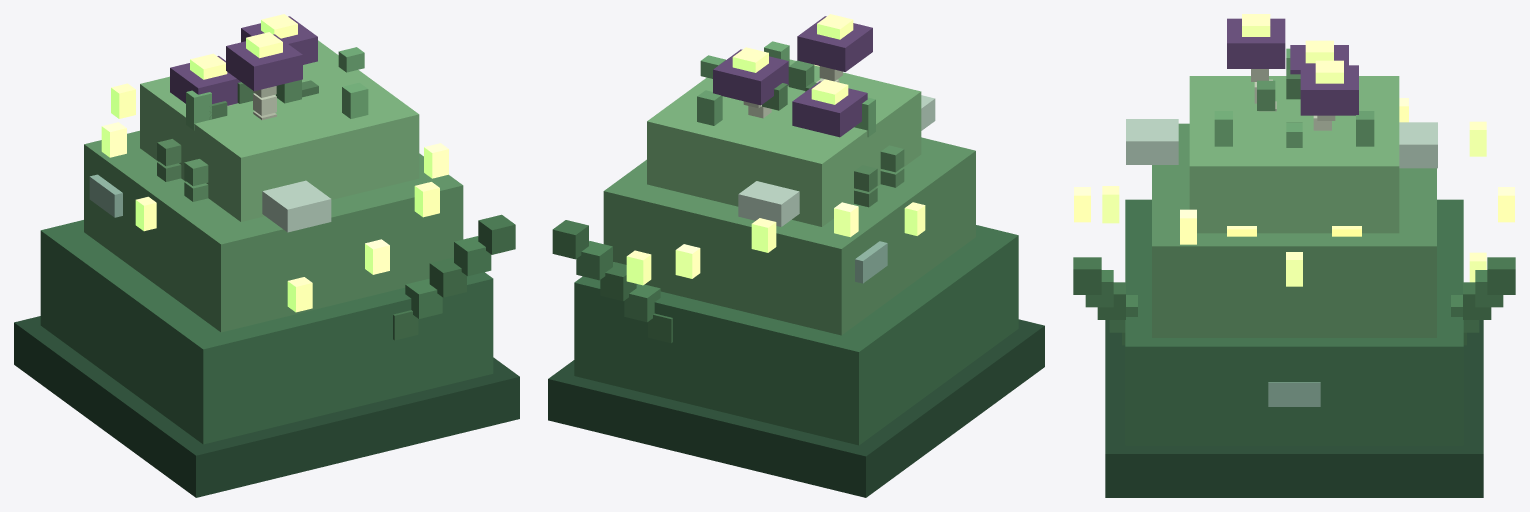
Rendered from mill-mini-mold-slime.glb.
3 views of the same model, side by side, from view 1: azimuth 30°, elevation 25°; view 2: azimuth 150°, elevation 25°; view 3: azimuth 270°, elevation 25° (orthographic). The views are drawn at different scales.
Visible parts, largest first — view 1: SlimeBody, SlimeFoot, SlimeDome, Spores, SporeCaps, Tendrils, MoldPatches, Scales, Trim, SporeStalks; view 2: SlimeBody, SlimeFoot, SlimeDome, SporeCaps, Spores, Tendrils, Scales, MoldPatches, Trim, SporeStalks; view 3: SlimeBody, SlimeDome, SlimeFoot, Spores, Tendrils, SporeCaps, MoldPatches, Scales, Trim, Eyes, SporeStalks.
Part boxes in pixels (left/top/right/bottom): SlimeBody: left=40, top=130, right=493, bottom=444; SlimeFoot: left=14, top=316, right=519, bottom=497; SlimeDome: left=140, top=40, right=419, bottom=221; Spores: left=101, top=14, right=448, bottom=312; SporeCaps: left=170, top=16, right=317, bottom=105; Tendrils: left=393, top=214, right=515, bottom=340; MoldPatches: left=89, top=174, right=331, bottom=232; Scales: left=157, top=79, right=368, bottom=201; Trim: left=186, top=47, right=364, bottom=130; SporeStalks: left=227, top=86, right=276, bottom=120; SlimeBody: left=574, top=137, right=1018, bottom=445; SlimeFoot: left=548, top=319, right=1044, bottom=497; SlimeDome: left=647, top=59, right=921, bottom=226; SporeCaps: left=713, top=16, right=872, bottom=137; Spores: left=626, top=14, right=925, bottom=285; Tendrils: left=552, top=220, right=672, bottom=343; Scales: left=697, top=41, right=904, bottom=207; MoldPatches: left=738, top=95, right=935, bottom=283; Trim: left=700, top=55, right=875, bottom=137; SporeStalks: left=743, top=66, right=842, bottom=118; SlimeBody: left=1125, top=123, right=1463, bottom=445; SlimeDome: left=1189, top=76, right=1399, bottom=233; SlimeFoot: left=1105, top=320, right=1483, bottom=497; Spores: left=1074, top=14, right=1514, bottom=286; Tendrils: left=1073, top=257, right=1515, bottom=345; SporeCaps: left=1227, top=18, right=1358, bottom=115; MoldPatches: left=1126, top=119, right=1437, bottom=406; Scales: left=1214, top=80, right=1374, bottom=146; Trim: left=1286, top=48, right=1302, bottom=147; Eyes: left=1227, top=226, right=1361, bottom=236; SporeStalks: left=1251, top=69, right=1335, bottom=130.
Bounding box in the file's own units: 3.85 × 4.21 × 4.38.
